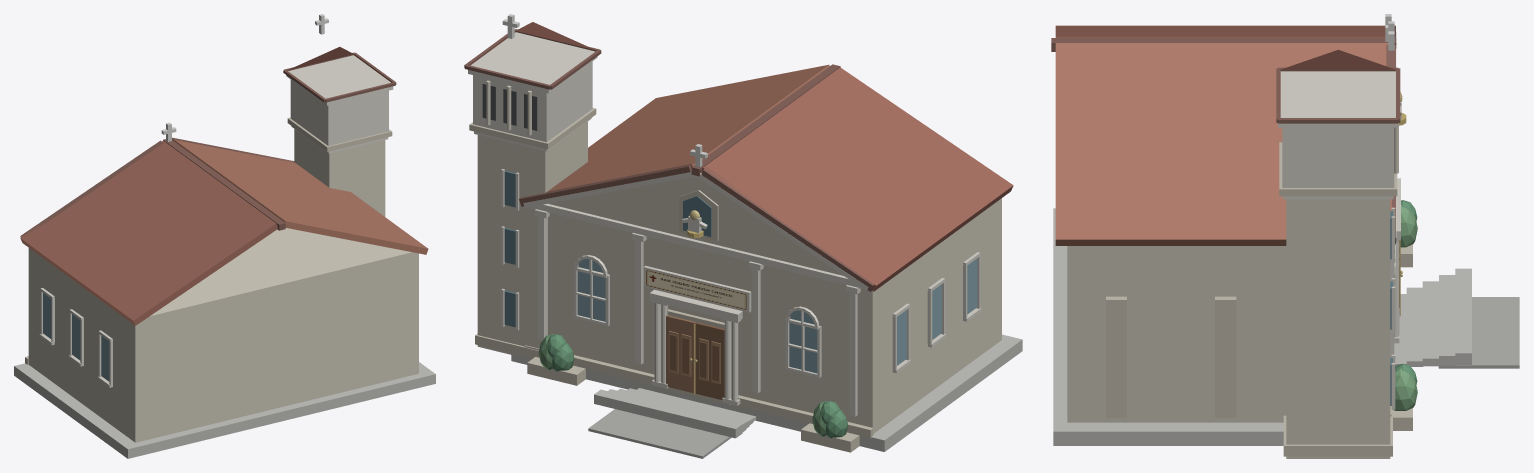
The model's file is Philippine_Parish_Church.glb.
3 views of the same model, side by side, from view 1: azimuth 30°, elevation 25°; view 2: azimuth 150°, elevation 25°; view 3: azimuth 270°, elevation 25° (orthographic). The views are drawn at different scales.
Parts seen in each view (by area): view 1: Main_Nave_Walls, Roof_Left, Roof_Right, Church_Foundation, BellTower_Base, BellTower_Belfry, Belfry_Top_Ledge, Roof_Ridge, Front_Eave_Left, Belfry_Bottom_Ledge, BellTower_Pyramid_Roof; view 2: Main_Nave_Walls, Roof_Left, BellTower_Base, Roof_Right, Gabled_Facade, Church_Foundation, BellTower_Belfry, Belfry_Top_Ledge, Church_Walkway, Front_Cornice, Church_Entrance_Step_5, Front_Base_Course (+26 smaller); view 3: Roof_Right, Main_Nave_Walls, BellTower_Base, Church_Foundation, BellTower_Belfry, Belfry_Top_Ledge, Roof_Left, Church_Walkway, Church_Side_Buttress_2, Church_Side_Buttress_3, Roof_Ridge, Church_Entrance_Step_5 (+10 smaller).
Boxes of the visible parts, bbox=[...] form: Main_Nave_Walls: bbox=[28, 228, 418, 442]; Roof_Left: bbox=[20, 140, 277, 325]; Roof_Right: bbox=[172, 138, 428, 254]; Church_Foundation: bbox=[14, 362, 435, 458]; BellTower_Base: bbox=[294, 129, 385, 216]; BellTower_Belfry: bbox=[290, 79, 388, 145]; Belfry_Top_Ledge: bbox=[286, 55, 393, 105]; Roof_Ridge: bbox=[163, 139, 285, 230]; Front_Eave_Left: bbox=[20, 140, 163, 237]; Belfry_Bottom_Ledge: bbox=[287, 117, 392, 151]; BellTower_Pyramid_Roof: bbox=[288, 47, 390, 81]; Main_Nave_Walls: bbox=[548, 198, 1001, 433]; Roof_Left: bbox=[701, 67, 1013, 291]; BellTower_Base: bbox=[477, 121, 587, 354]; Roof_Right: bbox=[519, 64, 829, 198]; Gabled_Facade: bbox=[548, 176, 843, 275]; Church_Foundation: bbox=[511, 334, 1022, 451]; BellTower_Belfry: bbox=[473, 61, 592, 142]; Belfry_Top_Ledge: bbox=[468, 32, 597, 93]; Church_Walkway: bbox=[588, 409, 731, 458]; Front_Cornice: bbox=[528, 203, 872, 291]; Church_Entrance_Step_5: bbox=[594, 389, 742, 438]; Front_Base_Course: bbox=[524, 345, 873, 438]; Roof_Right: bbox=[1055, 43, 1391, 245]; Main_Nave_Walls: bbox=[1067, 246, 1286, 422]; BellTower_Base: bbox=[1286, 199, 1390, 458]; Church_Foundation: bbox=[1053, 208, 1283, 445]; BellTower_Belfry: bbox=[1282, 127, 1394, 187]; Belfry_Top_Ledge: bbox=[1278, 71, 1398, 127]; Roof_Left: bbox=[1055, 25, 1385, 37]; Church_Walkway: bbox=[1438, 297, 1519, 368]; Church_Side_Buttress_2: bbox=[1215, 296, 1236, 417]; Church_Side_Buttress_3: bbox=[1106, 296, 1126, 417]; Roof_Ridge: bbox=[1051, 38, 1396, 51]; Church_Entrance_Step_5: bbox=[1455, 268, 1471, 364].
Size of the model in its own units: 16.76 by 13.27 by 13.3.
1 material, 1 textured.
